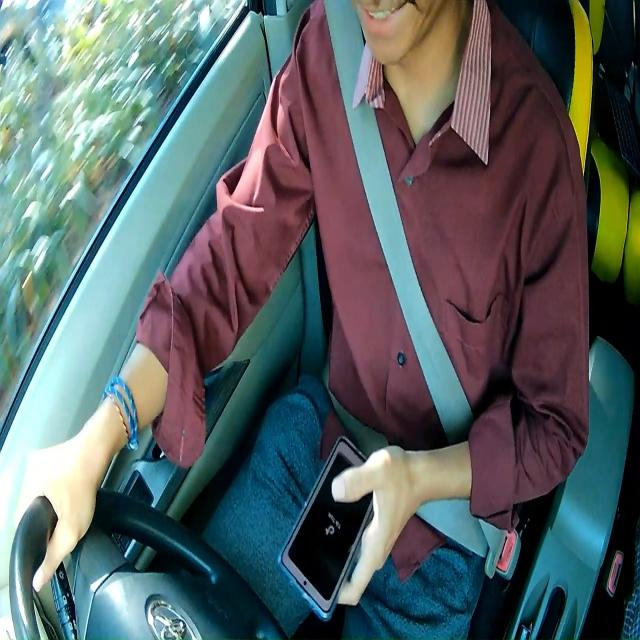phone: (277, 431, 373, 622)
